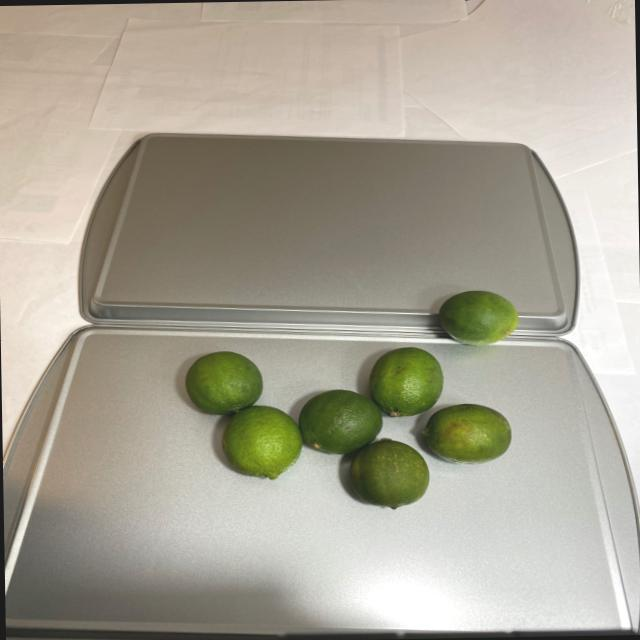lemon: (185, 290, 524, 514)
